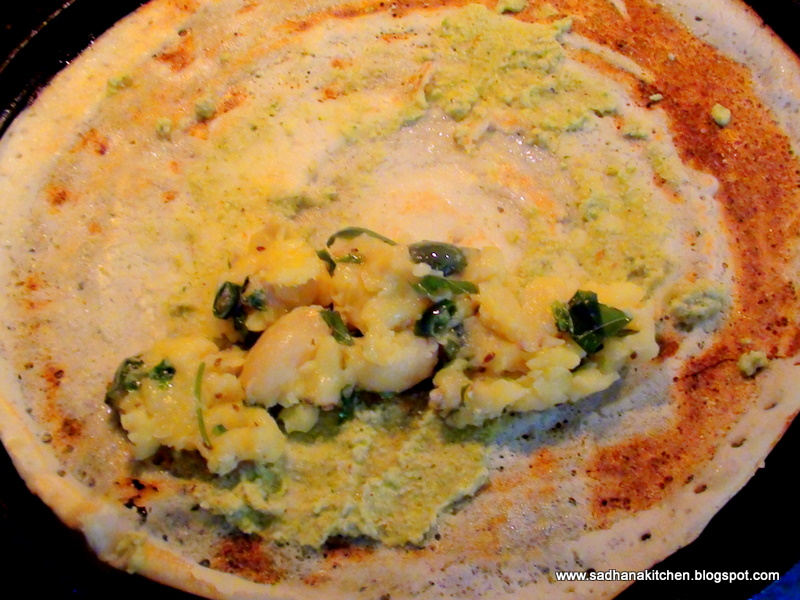dosa: (3, 1, 800, 599)
